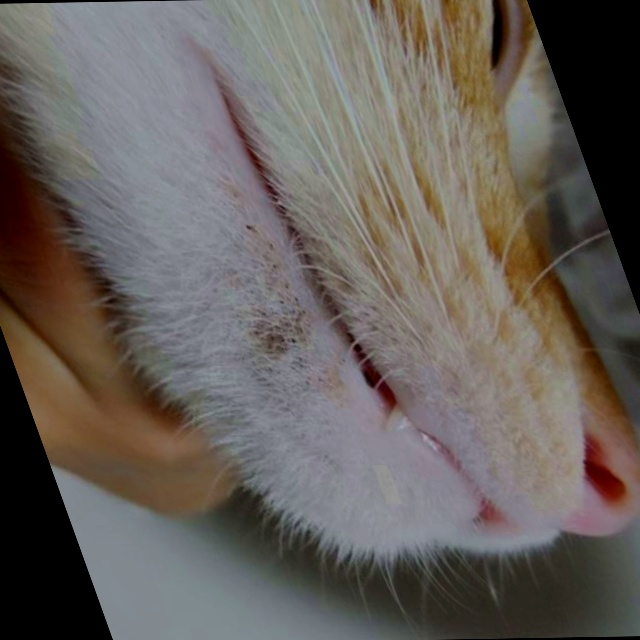acne: (201, 214, 340, 410)
